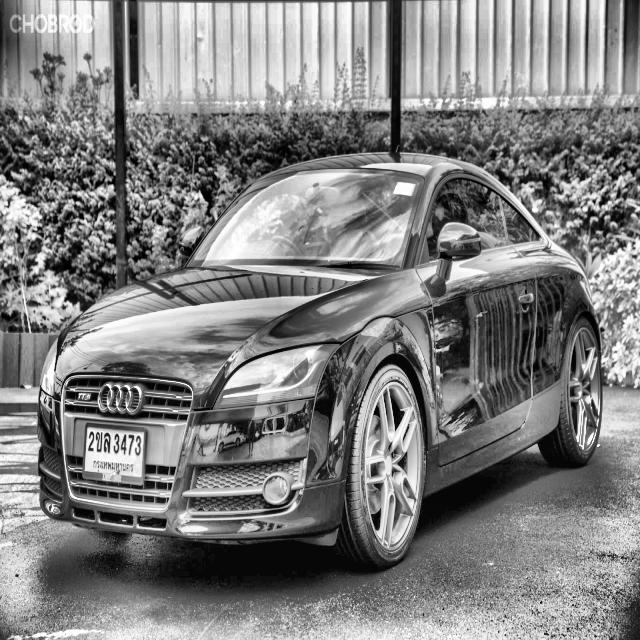license-plate: (82, 416, 146, 487)
